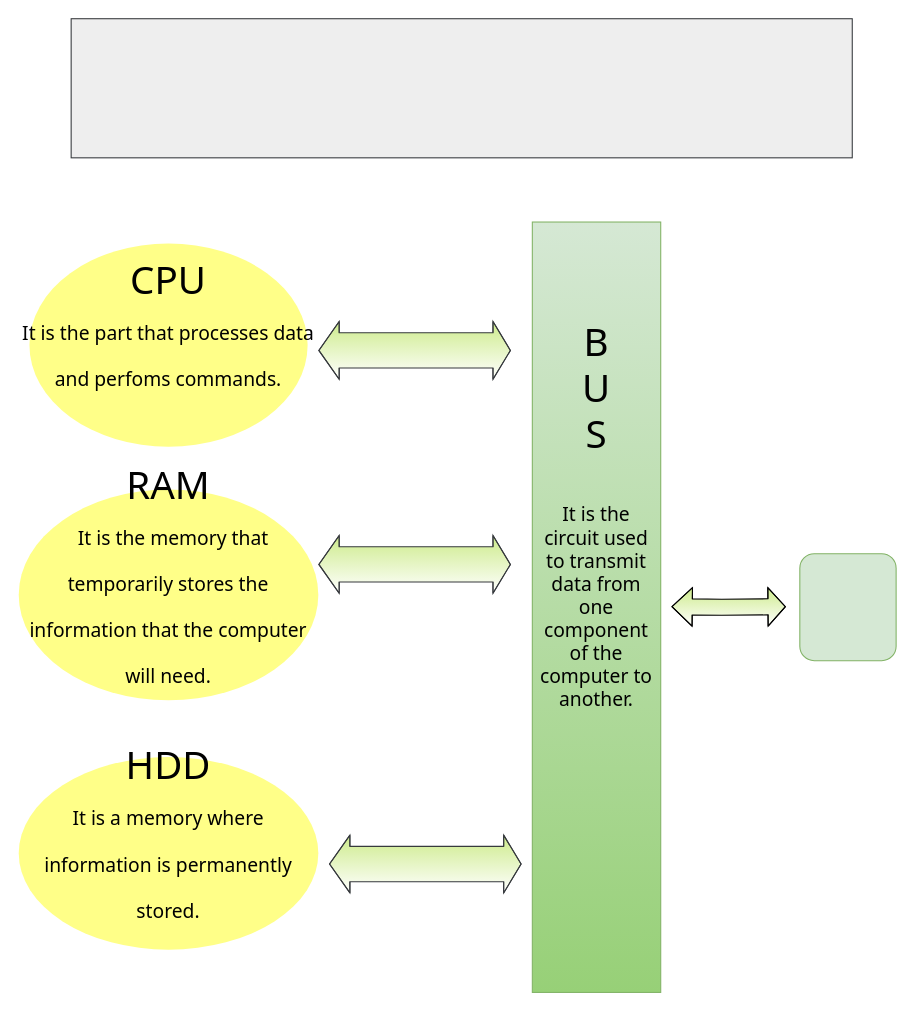
The diagram is 916 pixels wide and 1011 high, and some of its shapes have lost their labels. The centre of each missing label's shape, as x and y in pixels:
COMPUTER ARCHITECTURE: (x=461, y=88)
KEYBOARD: (x=847, y=607)
